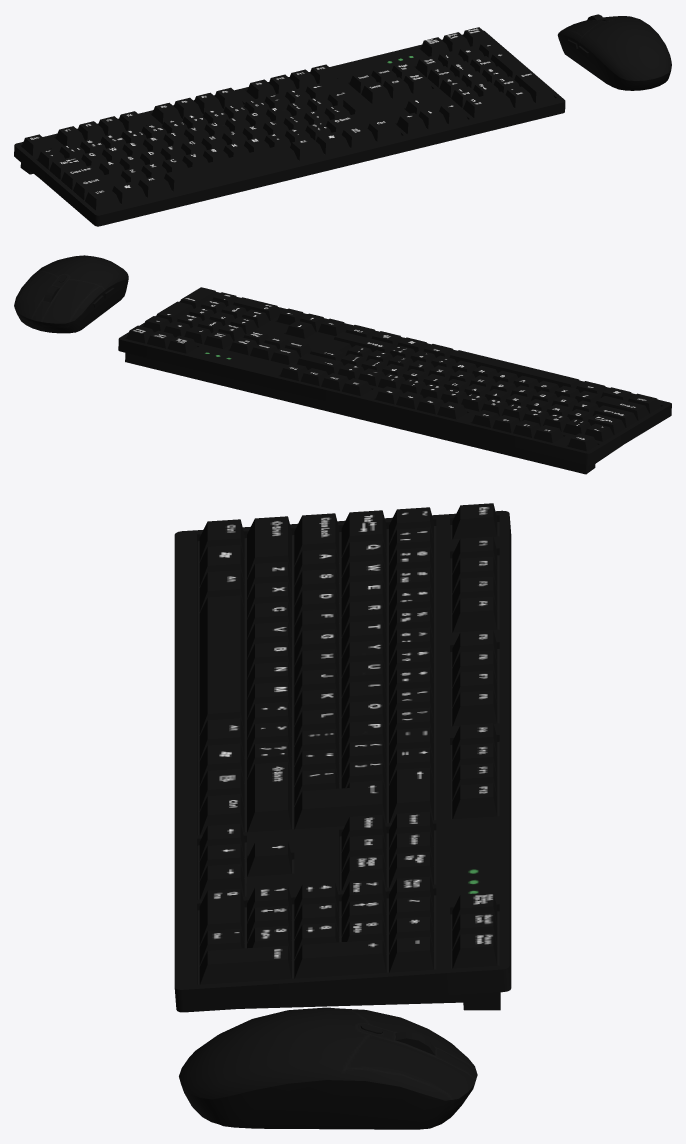
The model's file is Mouse_Keyboard_01.fbx.
3 renders of one model, top to bottom at view 1: azimuth 30°, elevation 25°; view 2: azimuth 150°, elevation 25°; view 3: azimuth 270°, elevation 25°, orthographic. The views are drawn at different scales.
Visible parts, largest first — view 1: keyboard, mouse; view 2: keyboard, mouse; view 3: keyboard, mouse.
Part boxes in pixels (left/top/right/bottom): keyboard: left=14, top=27, right=565, bottom=226; mouse: left=557, top=14, right=671, bottom=90; keyboard: left=118, top=287, right=671, bottom=474; mouse: left=14, top=255, right=128, bottom=333; keyboard: left=174, top=503, right=511, bottom=1012; mouse: left=179, top=1007, right=477, bottom=1129.
Size of the model in its own units: 54.97 by 3.58 by 13.51.
